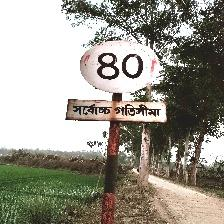Speed-limit: (67, 39, 166, 125)
